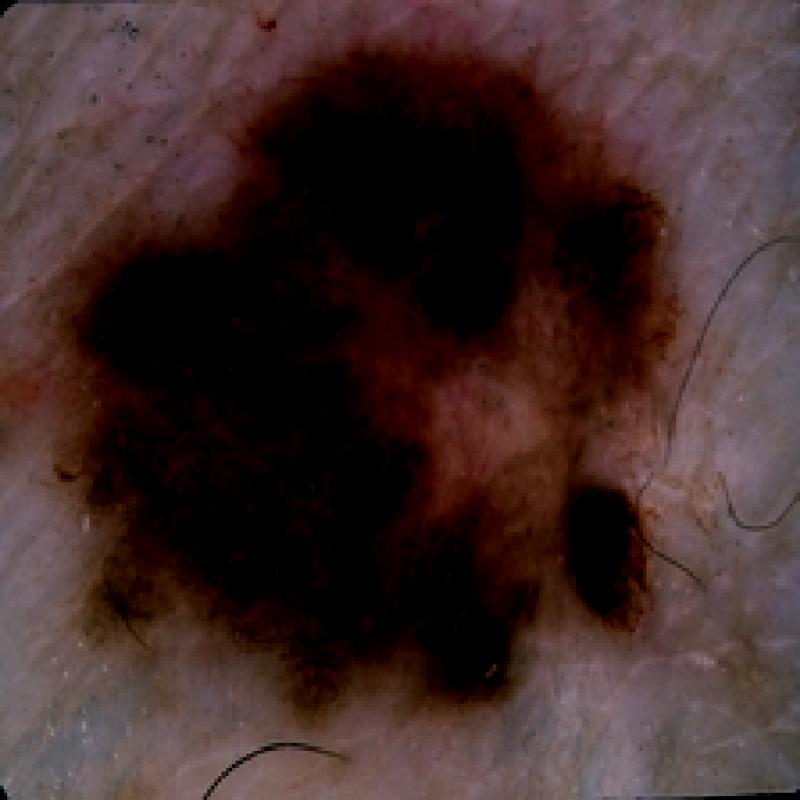malignant: (78, 34, 651, 704)
